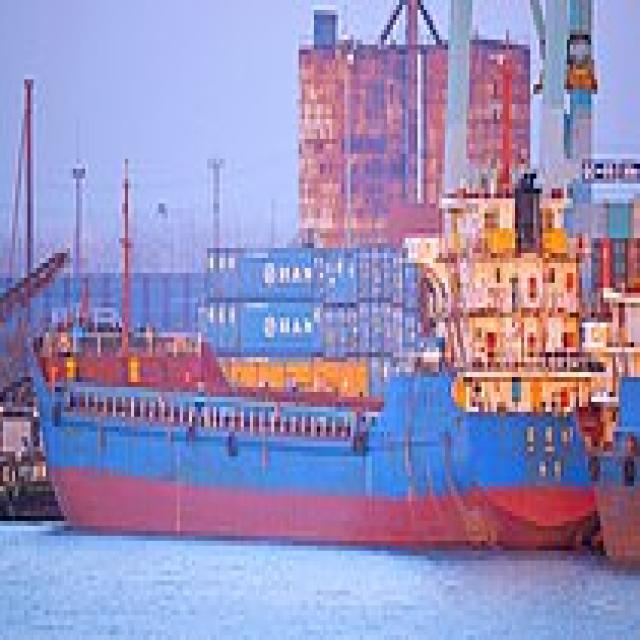Cargo: (24, 302, 600, 550)
